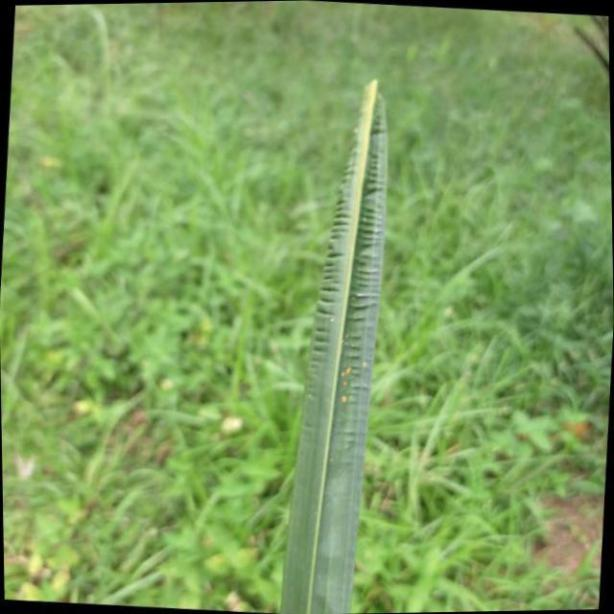Boron: (280, 77, 387, 614)
